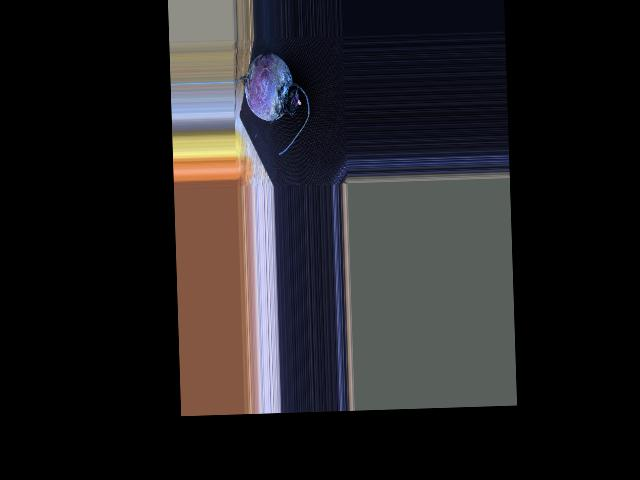beet: (232, 51, 311, 156)
